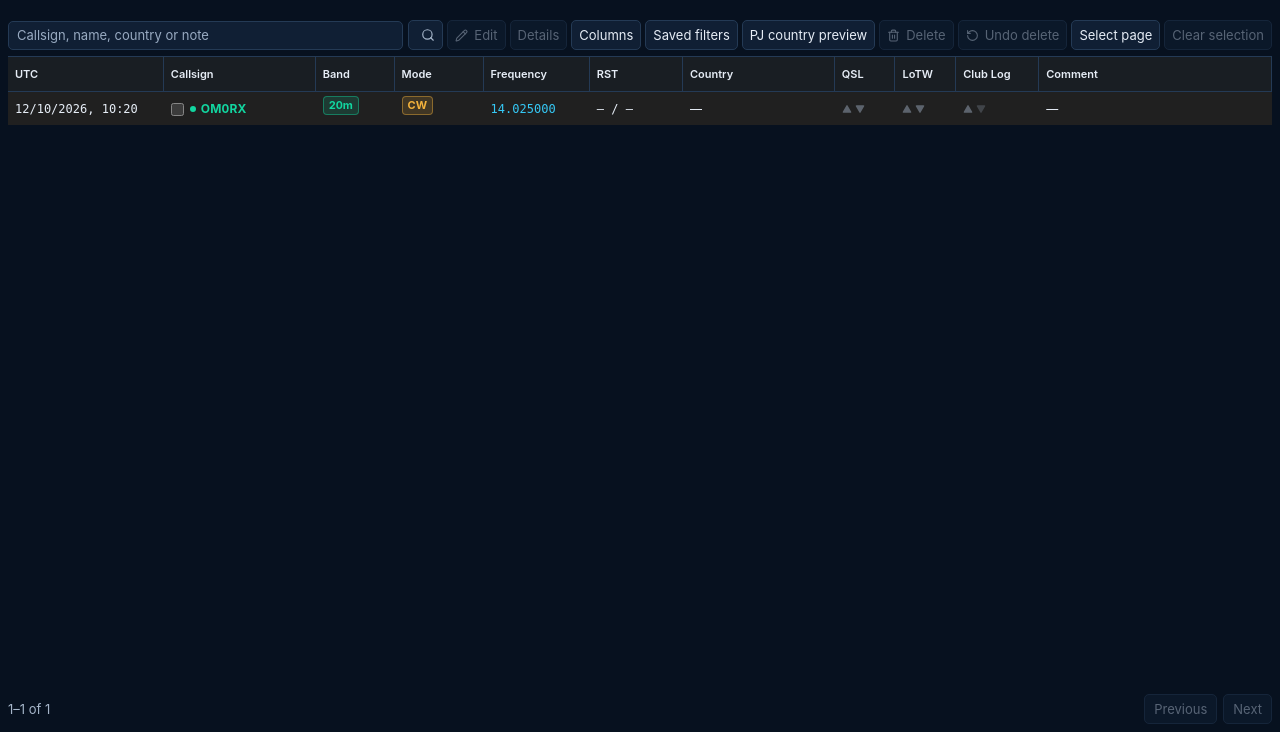
Test case: reconciles a lost Delete acknowledgement before closing the editor and keeps Undo
The width and height of the screenshot is (1280, 732).
Click the text "OM0RX" at (240, 108), box [164,92,316,125]
(page scrolled)
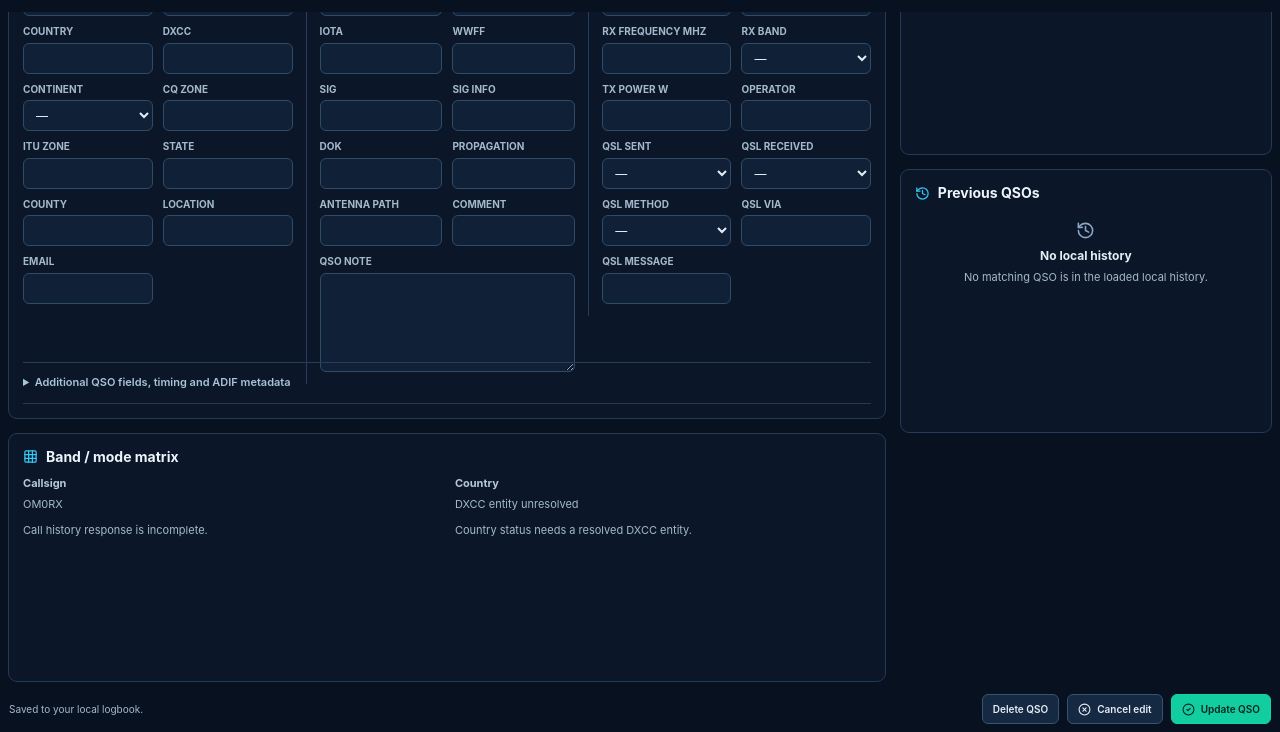
Click the button "Delete QSO" at (1021, 709), box [982,694,1059,724]
(page scrolled)
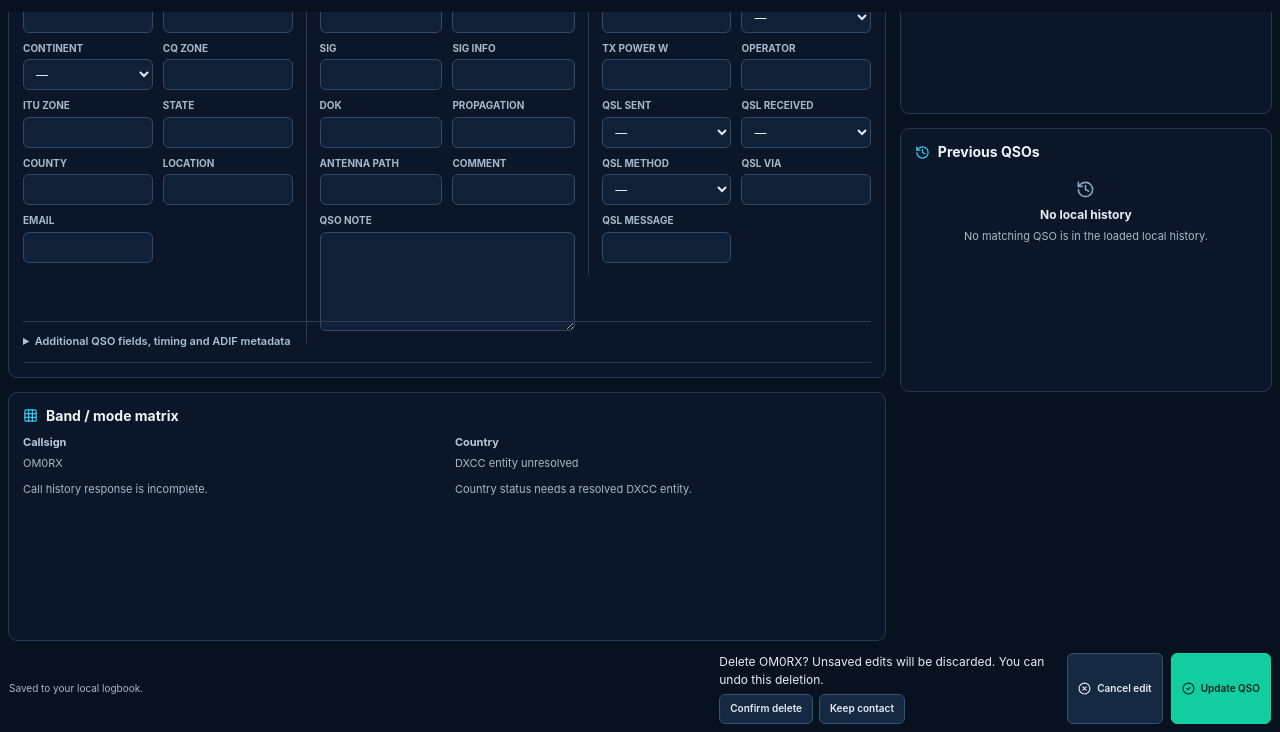
Click the button "Confirm delete" at (766, 709), box [719,694,813,724]
(page scrolled)
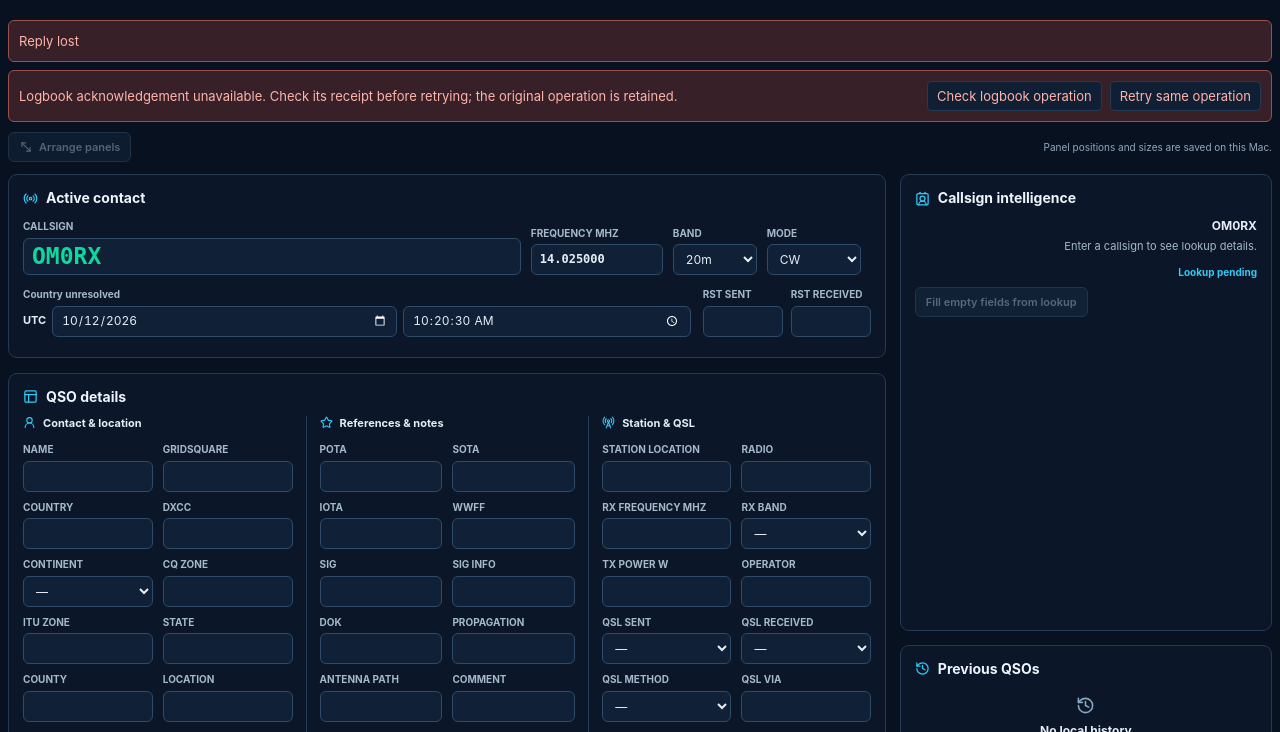
Expected: the button "Check logbook operation" is enabled
Expected: the field labelled "Callsign" is shown, [23,238,521,275]
Click the button "Check logbook operation" at (1014, 96), box [927,81,1102,111]
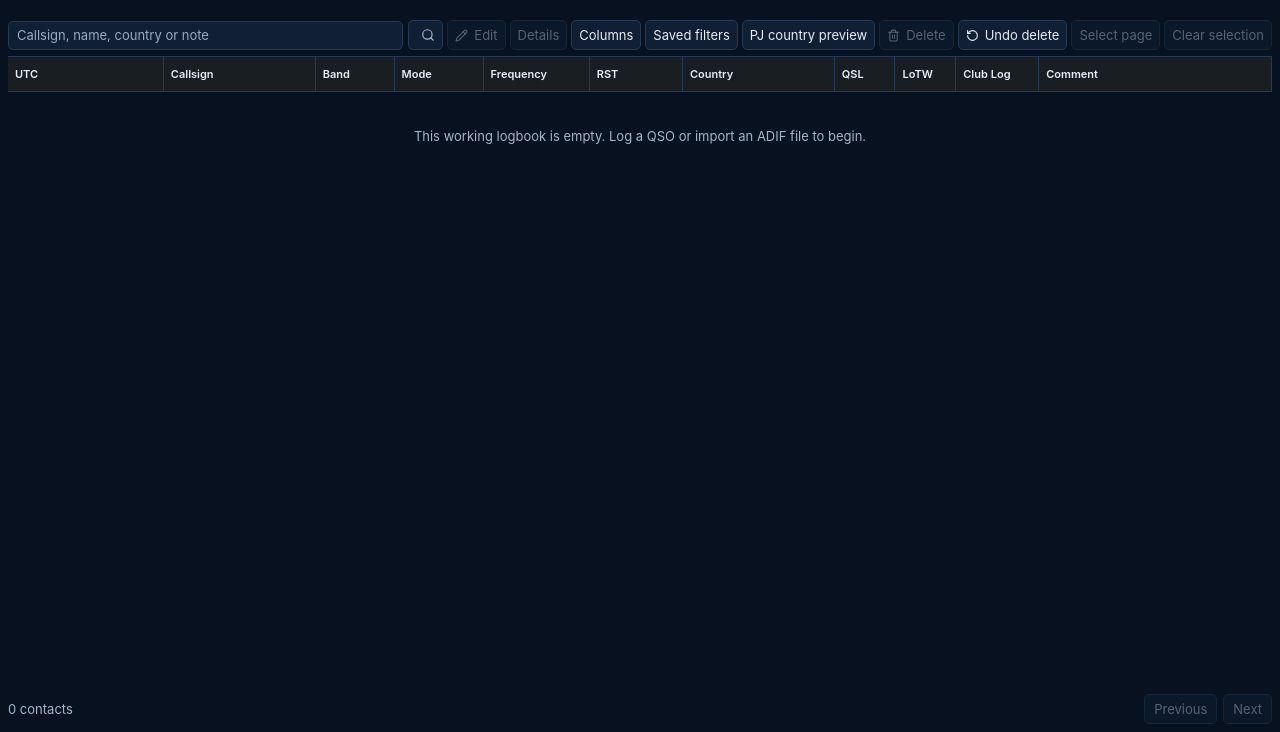
Expected: the button named "Search" is shown, [408,20,443,50]
Expected: the button "Undo delete" is enabled, [958,20,1067,50]
